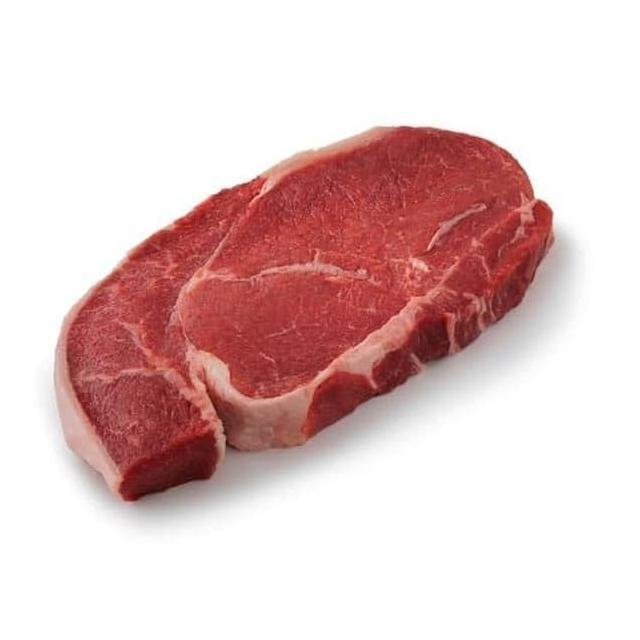beef: (20, 103, 589, 498)
